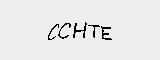Е: (98, 24, 112, 41)
Н: (71, 20, 88, 39)
С: (45, 21, 59, 43), (58, 22, 73, 41)
Т: (86, 22, 100, 42)
